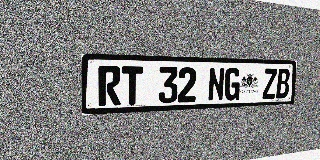2: (178, 67, 197, 103)
3: (158, 67, 178, 103)
B: (276, 69, 290, 98)
G: (224, 68, 241, 101)
N: (208, 67, 225, 101)
R: (98, 66, 121, 106)
T: (122, 66, 143, 105)
Z: (262, 68, 277, 99)
